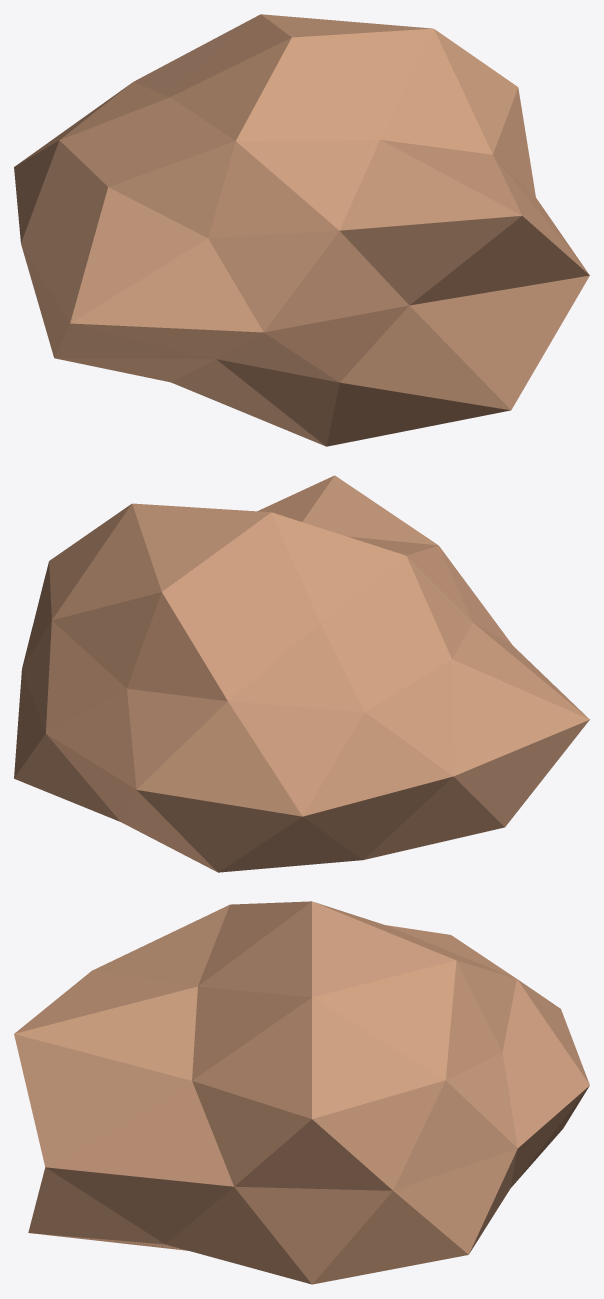
File: rock_red.glb
3 views of the same model, one above another, from view 1: azimuth 30°, elevation 25°; view 2: azimuth 150°, elevation 25°; view 3: azimuth 270°, elevation 25° (orthographic). The views are drawn at different scales.
Parts seen in each view (by area): view 1: Rock.002; view 2: Rock.002; view 3: Rock.002.
Part boxes in pixels (bbox=[...]): Rock.002: bbox=[14, 14, 589, 446]; Rock.002: bbox=[14, 475, 589, 872]; Rock.002: bbox=[14, 901, 589, 1284].
Bounding box in the file's own units: 2.97 × 1.94 × 2.94.
